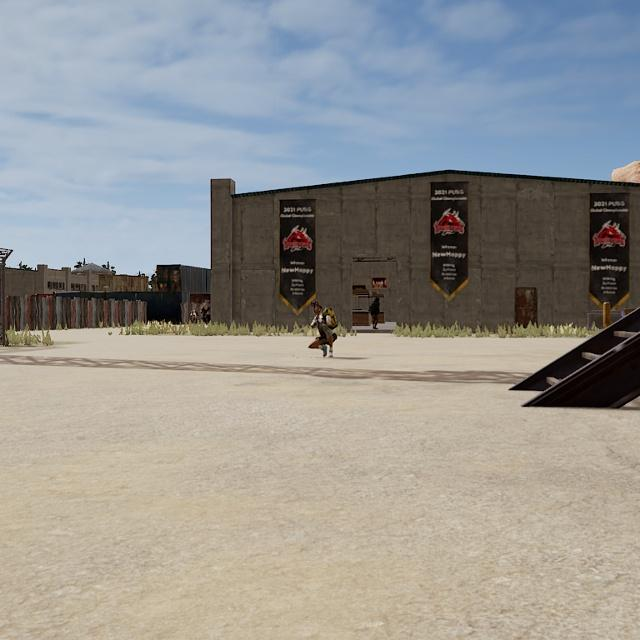head: (314, 305, 323, 316), (202, 302, 209, 309), (375, 296, 381, 302)
people: (306, 302, 339, 359), (368, 295, 382, 329), (199, 301, 210, 325), (188, 309, 199, 325)
